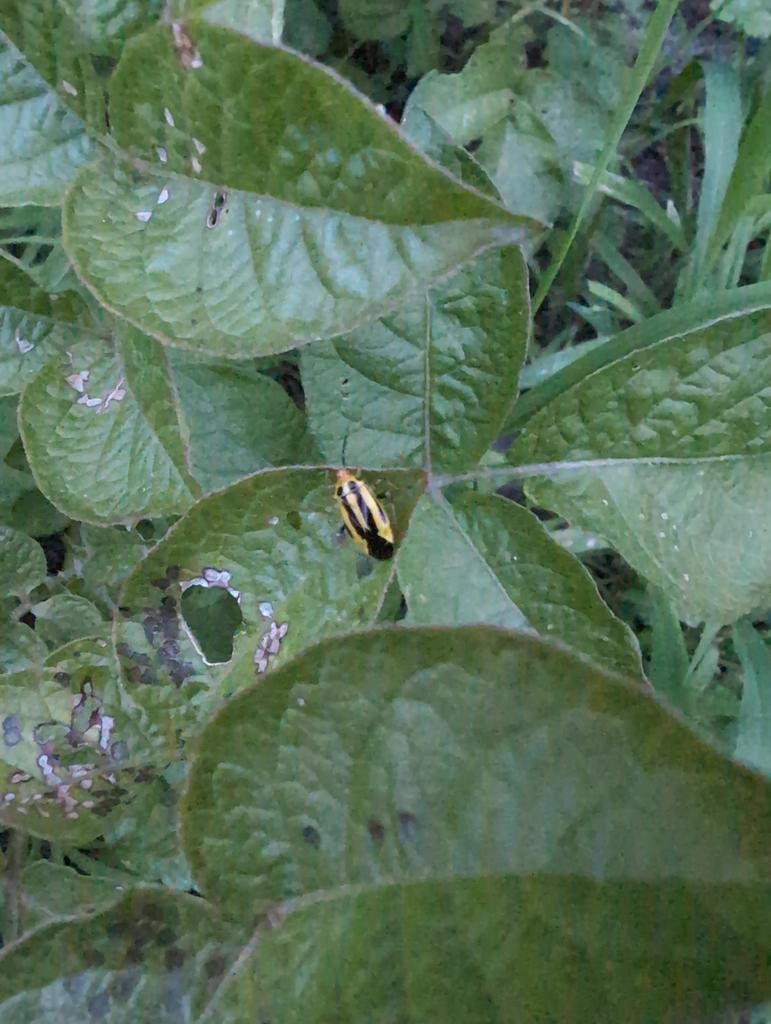plant_bugs: (290, 417, 421, 574)
